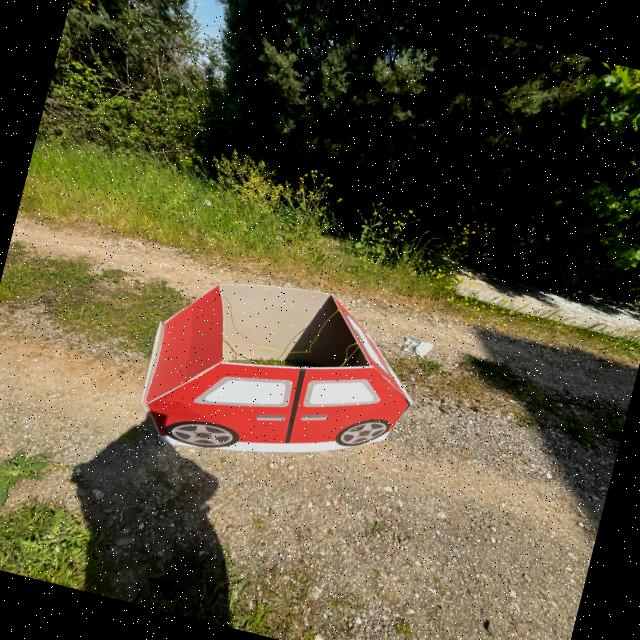red_car: (94, 239, 452, 515)
